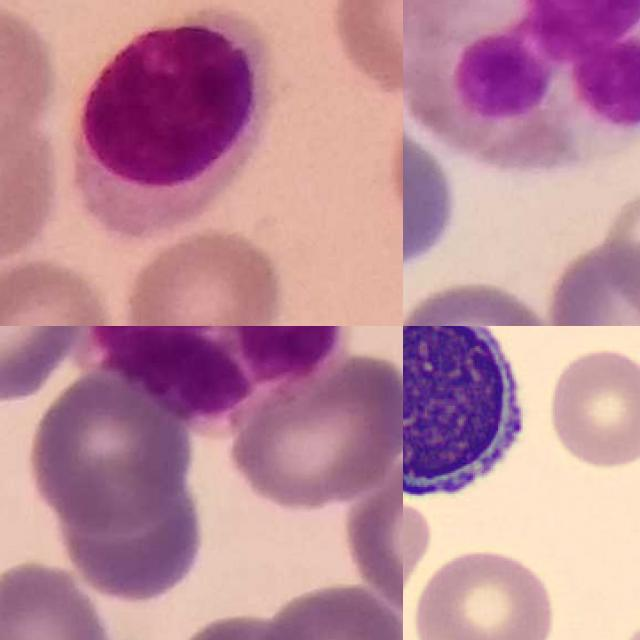Eosinophil: (403, 0, 640, 171), (60, 326, 347, 427)
Lymphocyte: (70, 3, 279, 240), (403, 326, 542, 506)
RBC: (409, 545, 560, 640), (540, 344, 640, 471), (403, 467, 434, 612)
